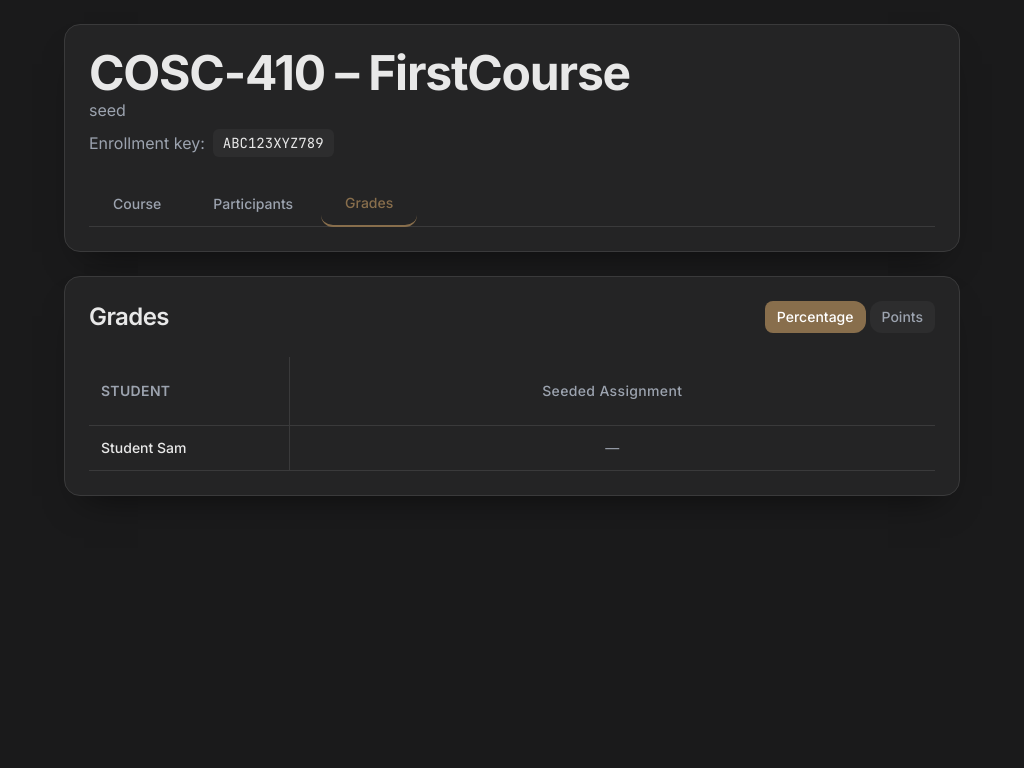
Test case: CoursePage › participants tab pagination
The width and height of the screenshot is (1024, 768).
Expected: the heading "COSC-410 – FirstCourse" is shown, x1=89 y1=43 x2=630 y2=102
Click the tab "participants": (253, 204) x1=189 y1=181 x2=317 y2=226
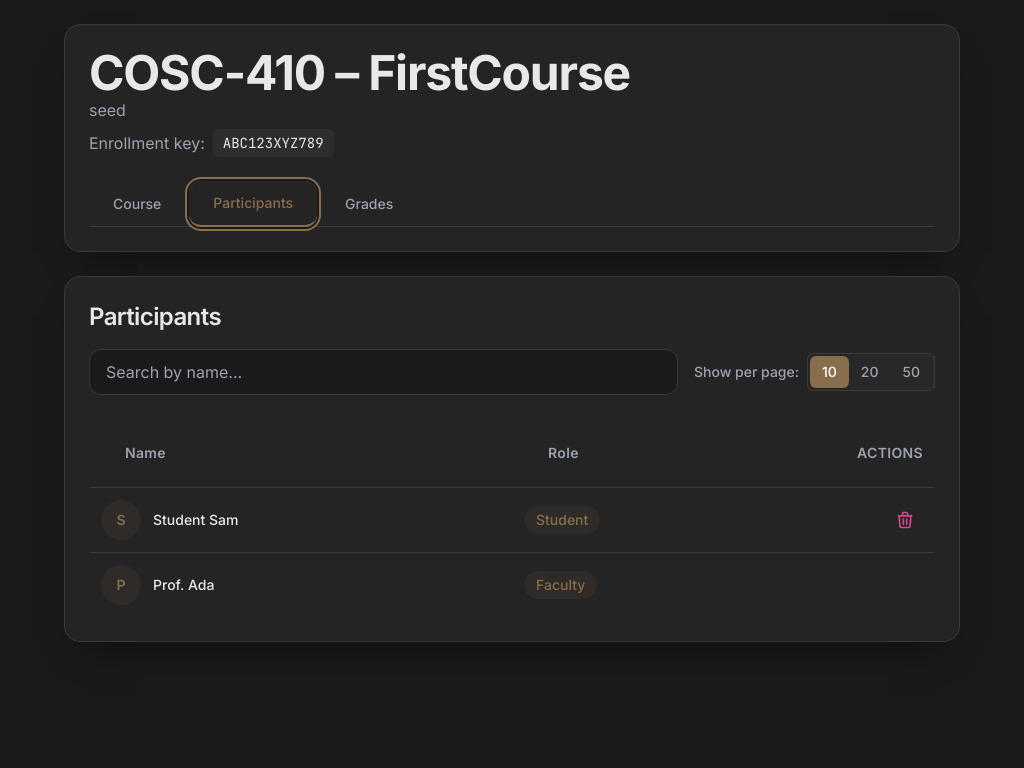
Expected: the text "Student Sam" is shown, x1=153 y1=510 x2=238 y2=530
Now the text "Prof. Ada" is shown, box x1=153 y1=575 x2=214 y2=595
